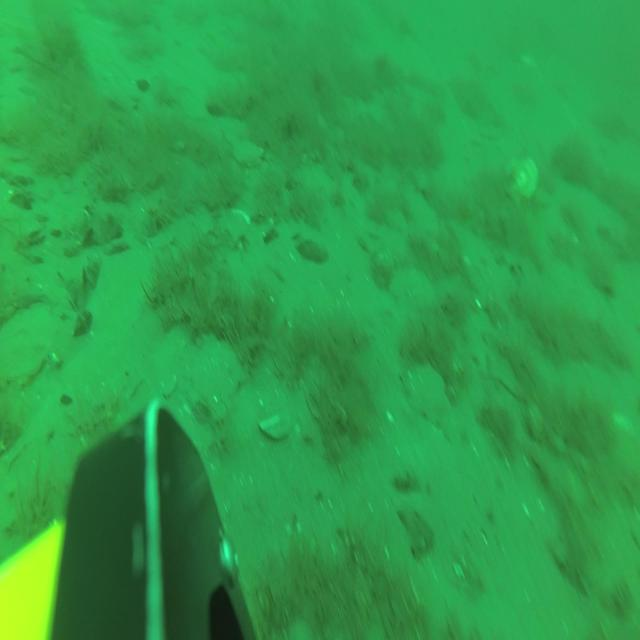scallop: (193, 341, 247, 400), (405, 367, 452, 427), (504, 156, 538, 202), (235, 136, 264, 166), (523, 54, 537, 70)
